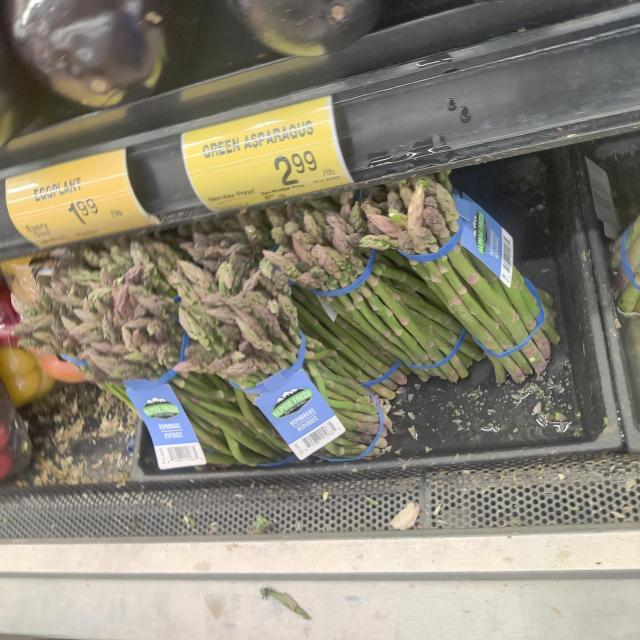Asparagus: (167, 299, 407, 471), (44, 237, 205, 482), (368, 184, 566, 382), (267, 220, 489, 393)
